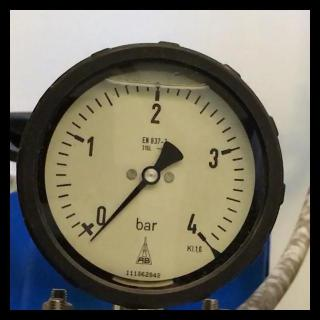gauge: (12, 13, 296, 310), (76, 212, 108, 248), (185, 220, 215, 248), (141, 165, 161, 185), (86, 233, 98, 245)
